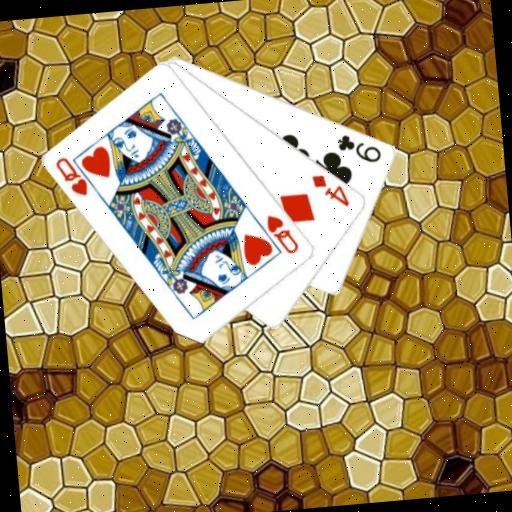4D: (309, 169, 352, 211)
9C: (334, 128, 384, 168)
QH: (52, 151, 102, 200), (263, 210, 302, 258)
